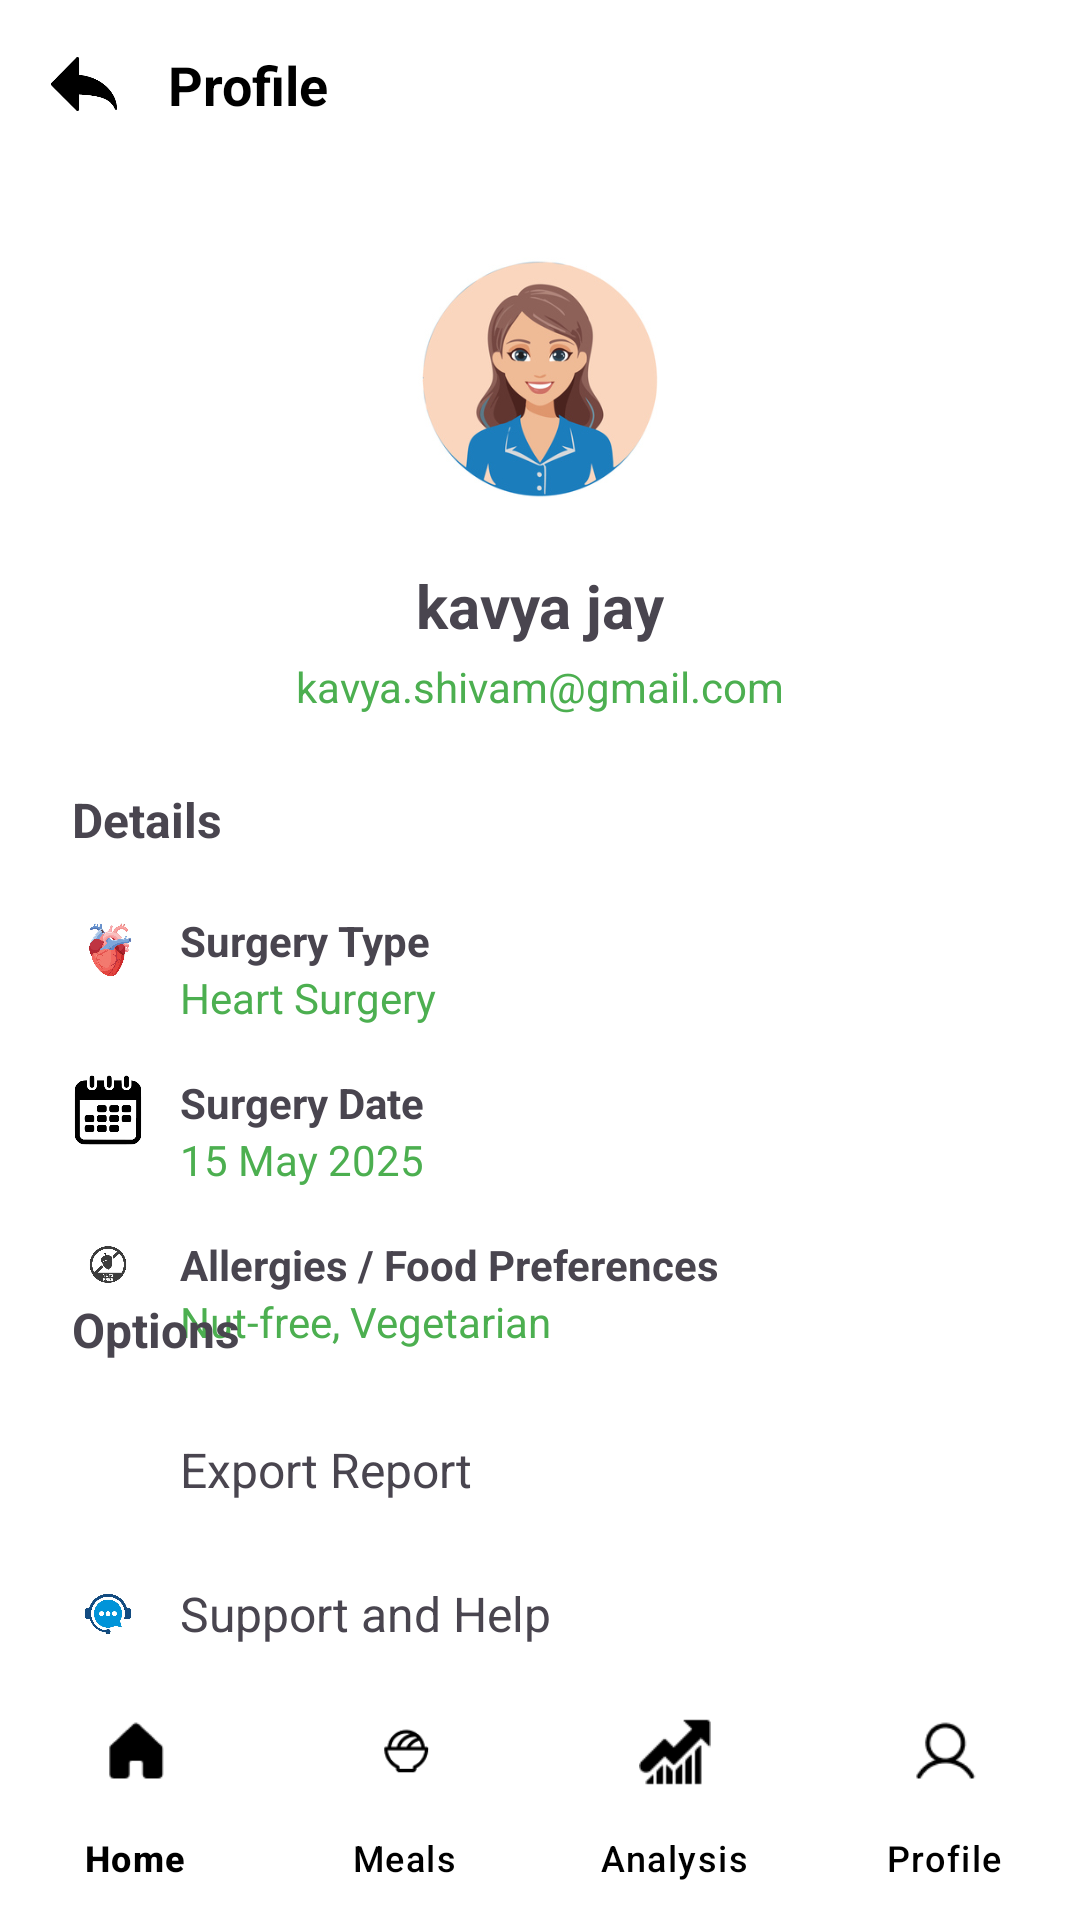

Screen size 1080w x 1920h. Icon name, then its center in pixels as [x,y]:
Back: [84,84]
calendar: [108,1110]
